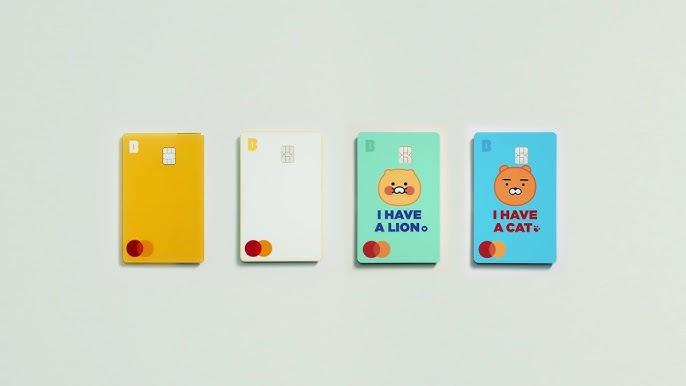Credit_card: (355, 131, 441, 263), (472, 132, 558, 264), (120, 132, 205, 265), (239, 130, 323, 263)
